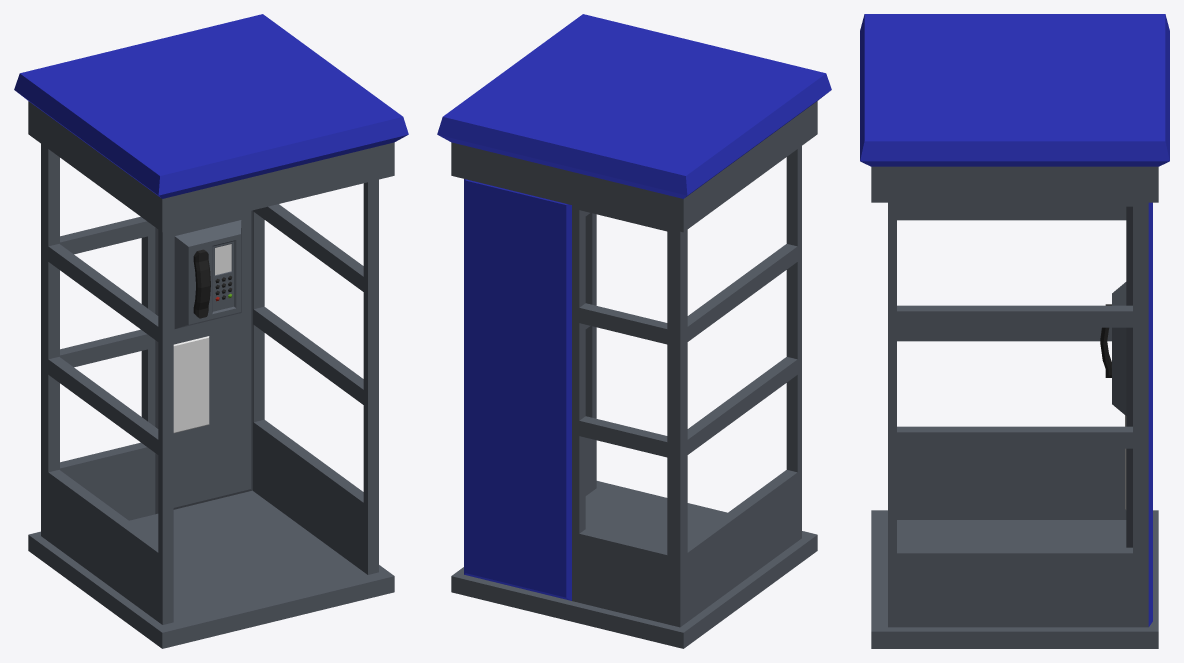
File: PhoneBooth.fbx
3 views of the same model, side by side, from view 1: azimuth 30°, elevation 25°; view 2: azimuth 150°, elevation 25°; view 3: azimuth 270°, elevation 25° (orthographic). The views are drawn at different scales.
Visible parts, largest first — view 1: PhoneBooth; view 2: PhoneBooth; view 3: PhoneBooth.
Boxes of the visible parts, left/top/right/bottom form: PhoneBooth: left=14, top=14, right=408, bottom=648; PhoneBooth: left=437, top=14, right=831, bottom=648; PhoneBooth: left=860, top=14, right=1169, bottom=648.
Bounding box in the file's own units: 114 × 208 × 114.
